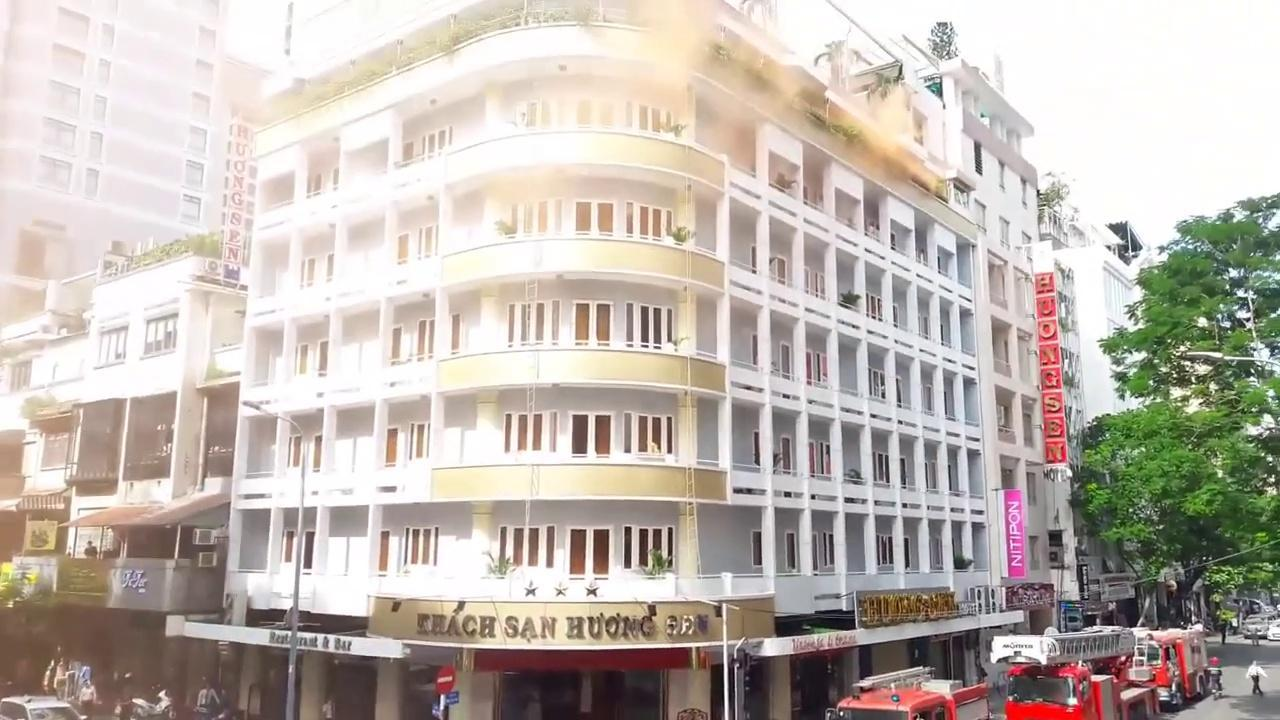xe cuu hoa: (989, 626, 1150, 720), (823, 665, 990, 720), (1138, 624, 1207, 714)
